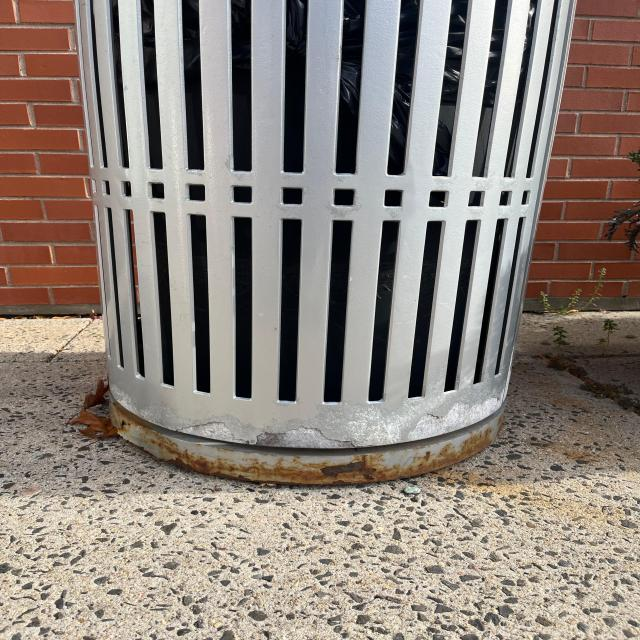Crevice Corrosion: (109, 396, 509, 487)
